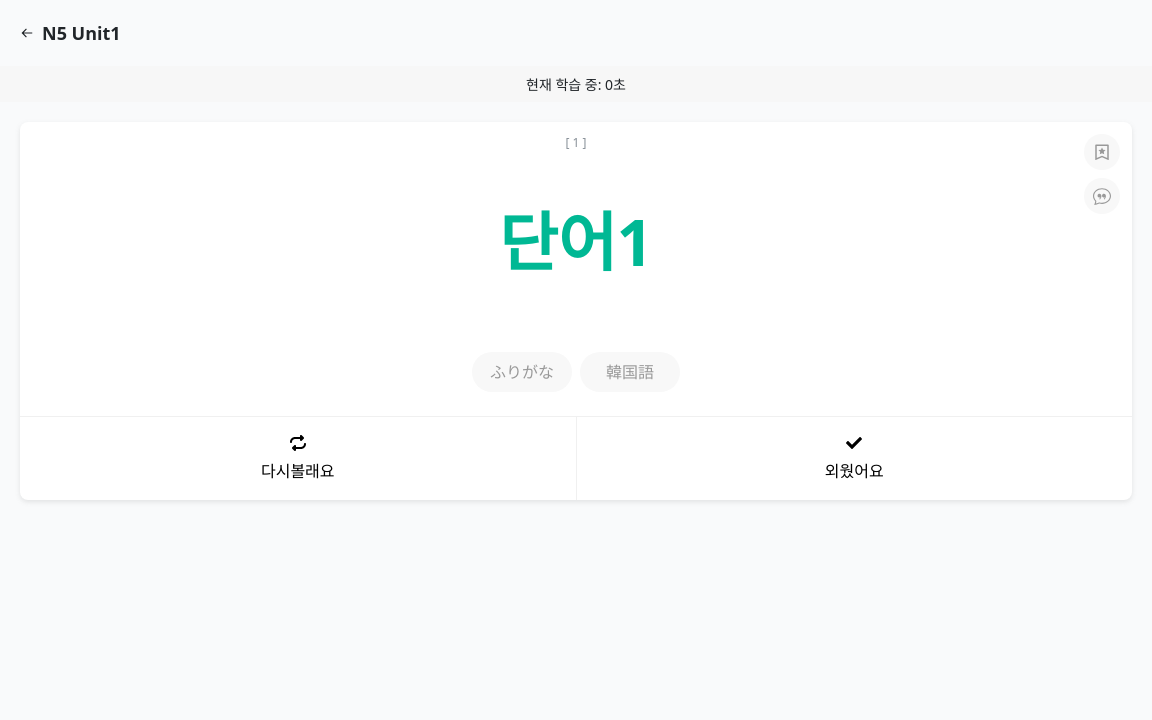
Test case: 학습 페이지 흐름 › 복습 도중 저장해도 현재 목록이 바뀌어 다음 단어를 건너뛰지 않는다
Check: the text "단어1" is shown, box [499,194,653,290]
Click the button "외웠어요" at [854, 458], box [576,417,1132,500]
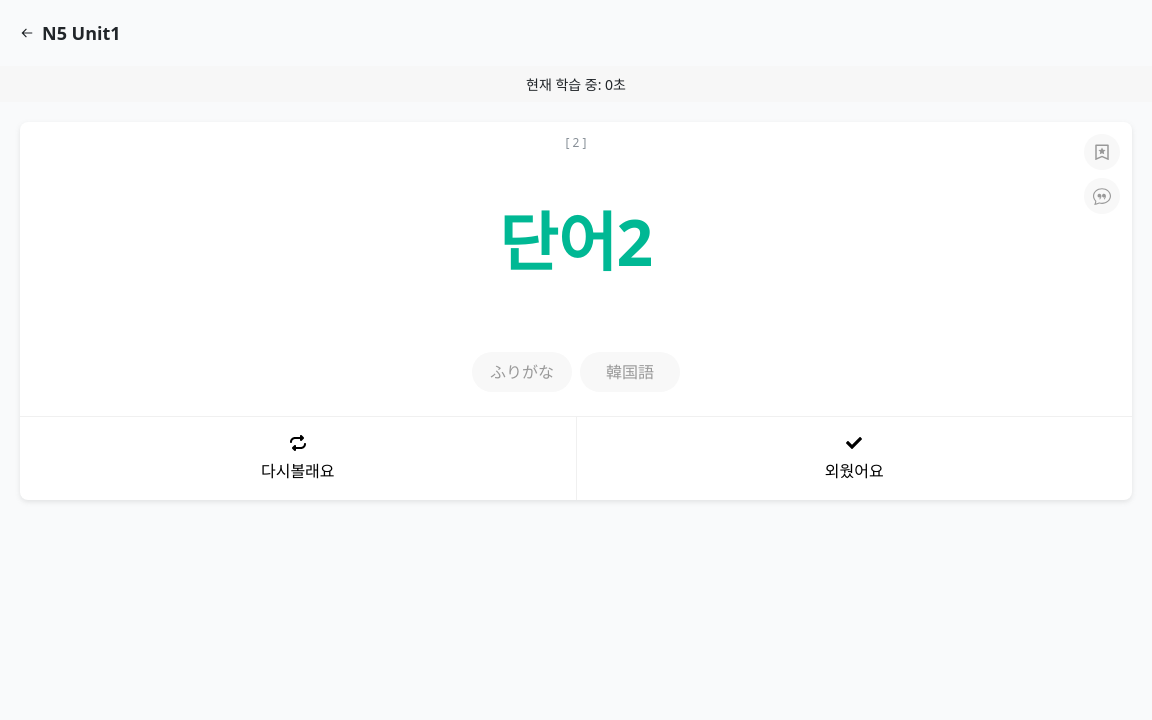
Check: the text "단어2" is shown, box [499,194,653,290]
Click the button "외웠어요" at [854, 458], box [576,417,1132,500]
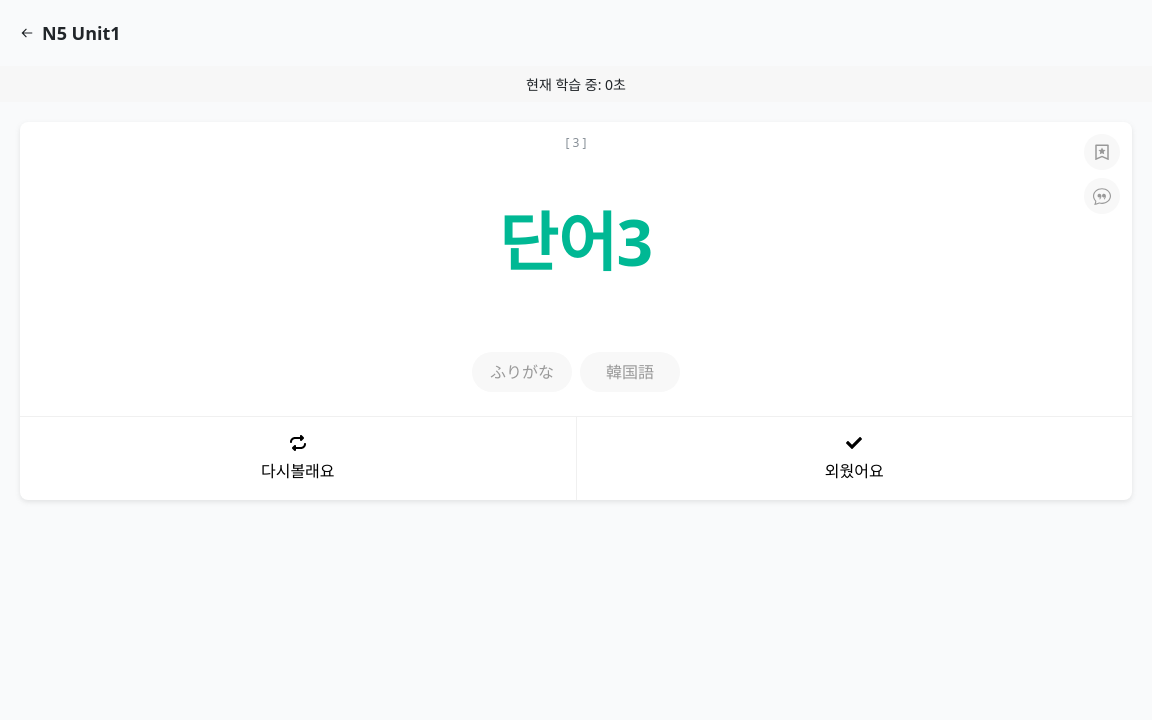
Check: the text "단어3" is shown, box [499,194,653,290]
Click the button "외웠어요" at [854, 458], box [576,417,1132,500]
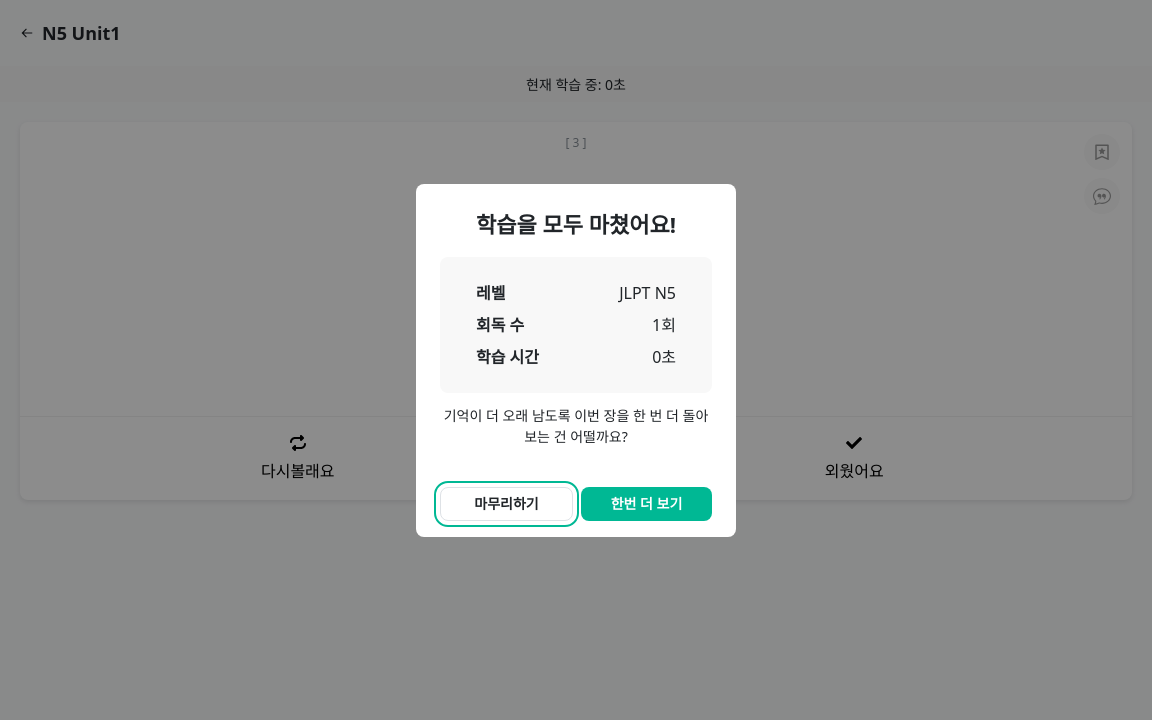
Click the button "한번 더 보기" at [646, 504], box [581,486,712,520]
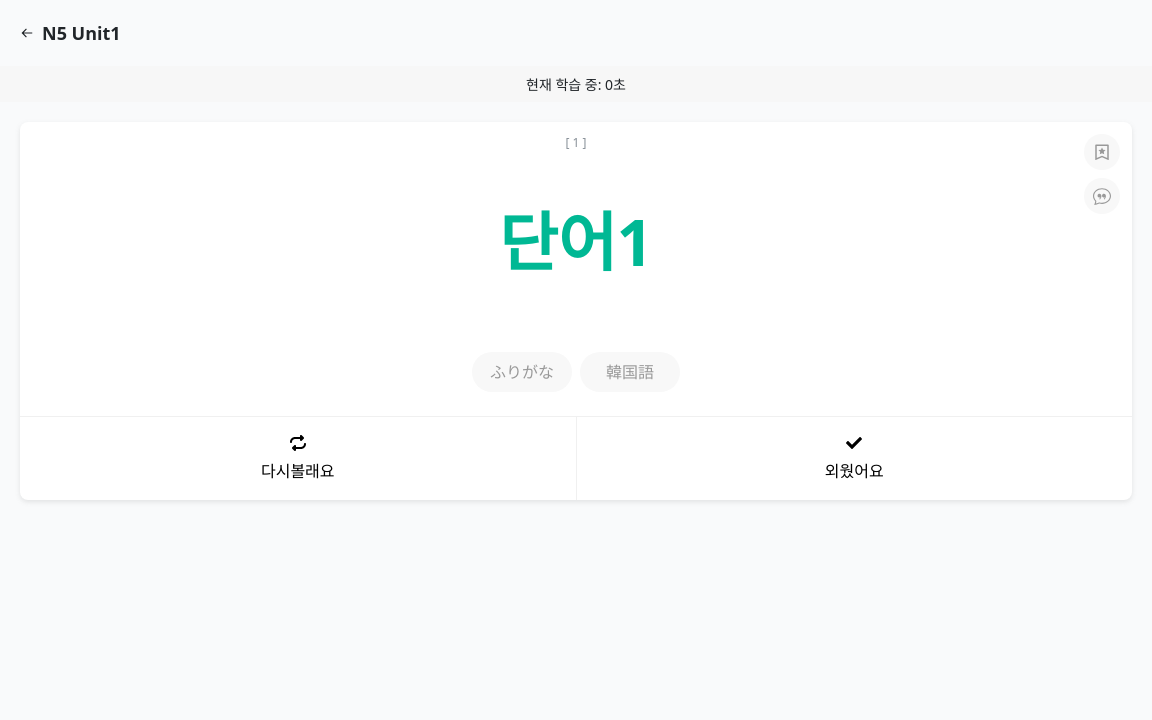
Check: the text "단어1" is shown, box [499,194,653,290]
